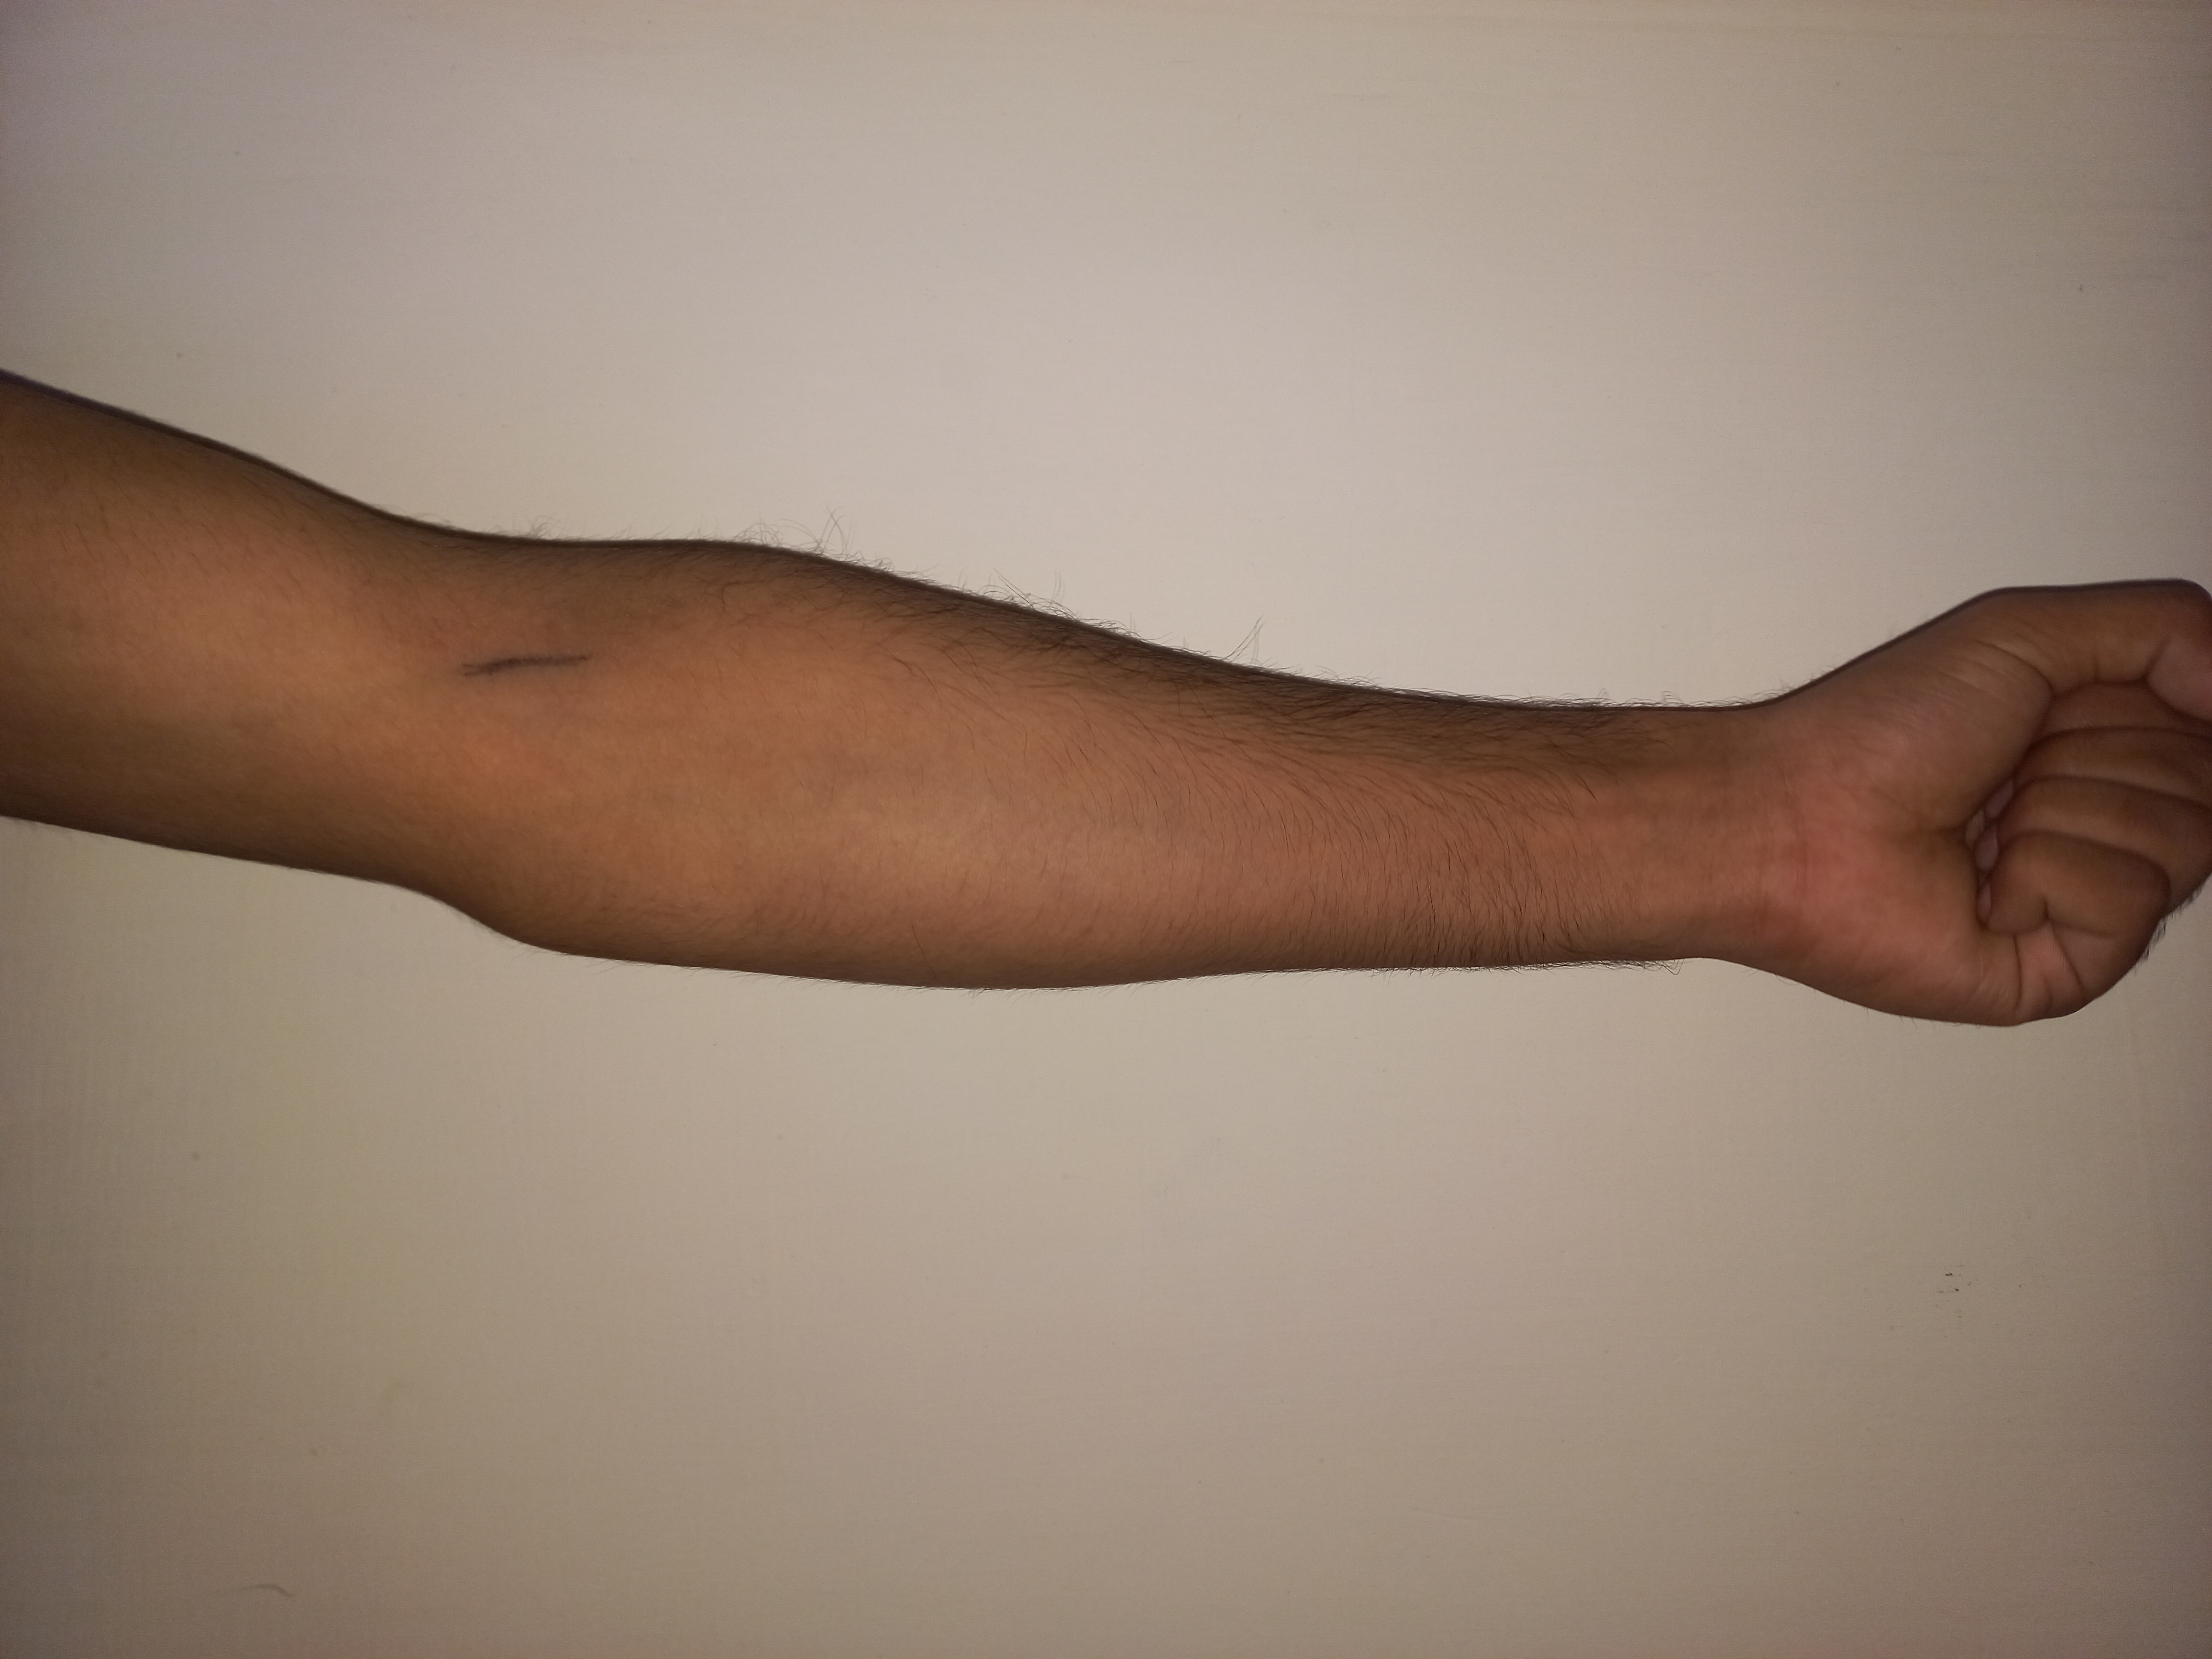vein: (442, 645, 617, 690)
